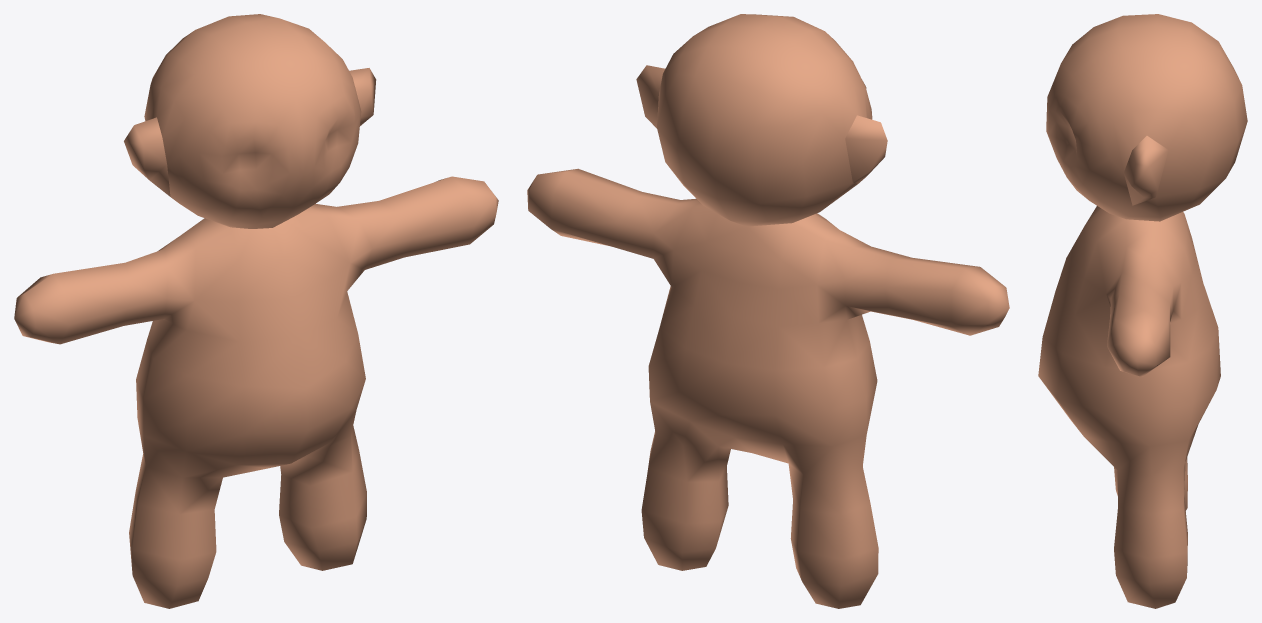
Rendered from meepleLowBase.fbx.
3 views of the same model, side by side, from view 1: azimuth 30°, elevation 25°; view 2: azimuth 150°, elevation 25°; view 3: azimuth 270°, elevation 25° (orthographic). The views are drawn at different scales.
Parts seen in each view (by area): view 1: Meeple; view 2: Meeple; view 3: Meeple.
Boxes of the visible parts, x1,y1,x2,y2 form: Meeple: (14,14,498,608); Meeple: (527,14,1009,608); Meeple: (1038,14,1247,608).
Bounding box in the file's own units: 1.19 × 1.31 × 0.4604.
